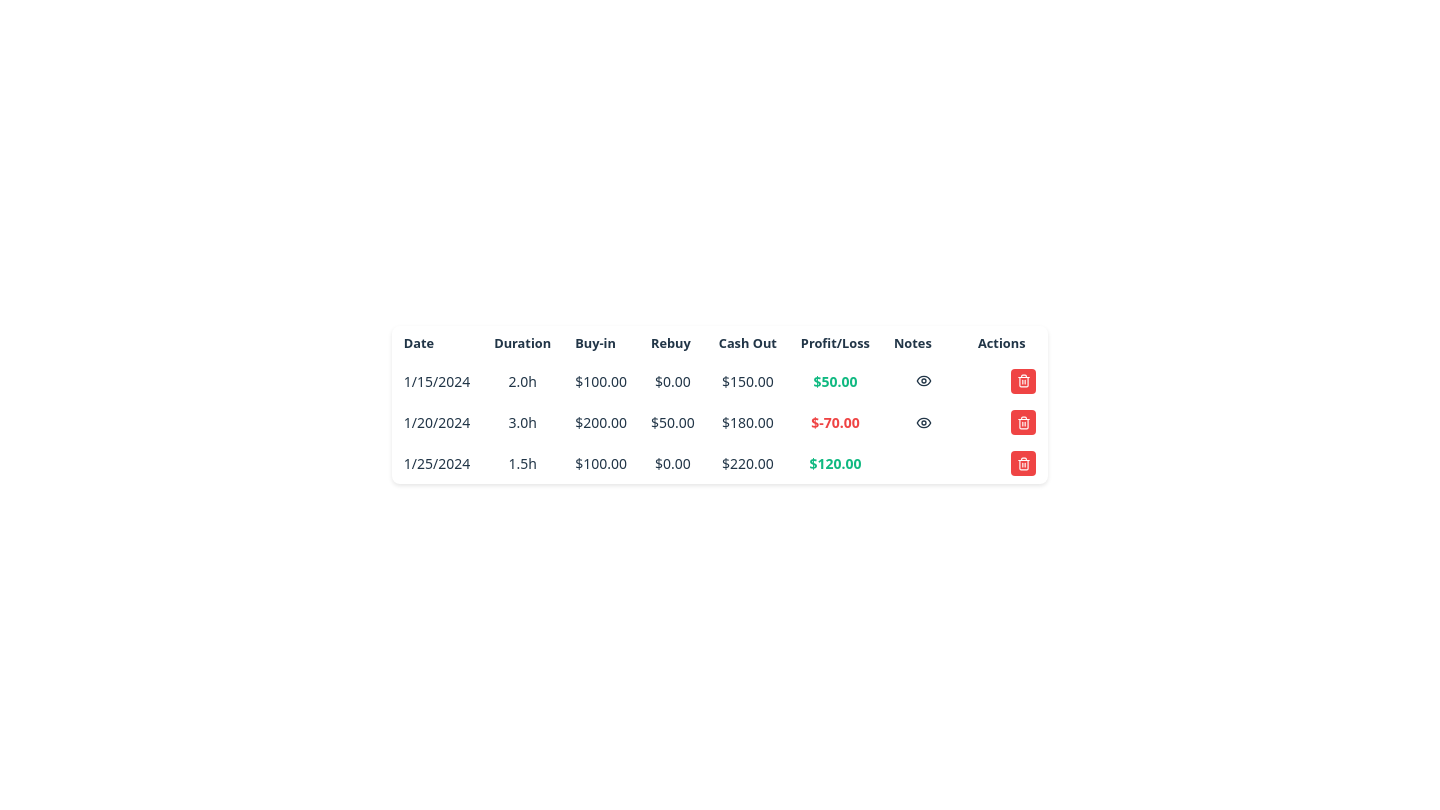
Test case: SessionTable › closes modal when close button is clicked
Open modal
Step 1. Click the button named "view notes" in the row of "1/15/2024" → (924, 381), box x1=912 y1=369 x2=936 y2=393
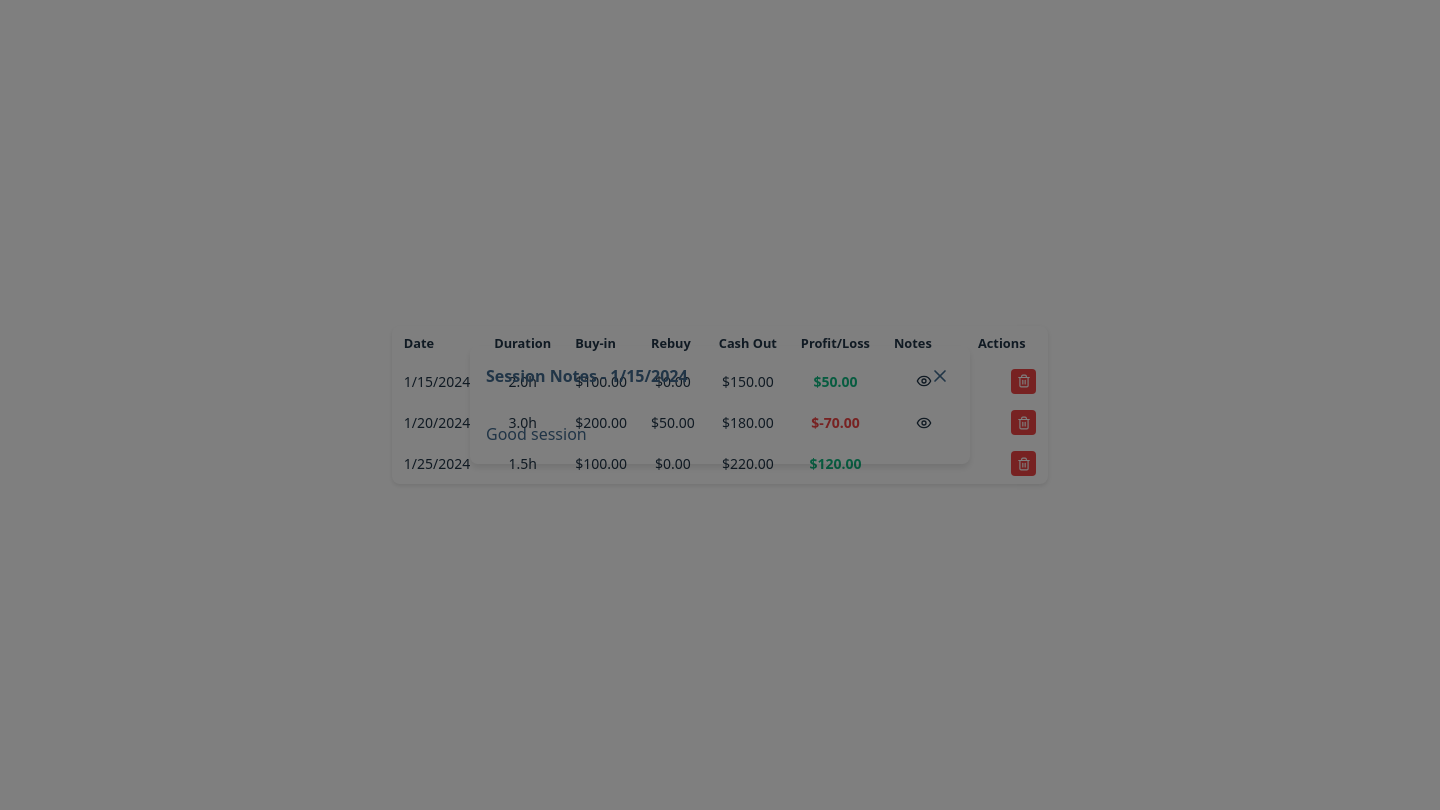
Check: the text "Good session" is shown, box x1=486 y1=423 x2=587 y2=445
Close modal
Step 2. Click the button named "close" → (940, 376), box x1=926 y1=362 x2=954 y2=390
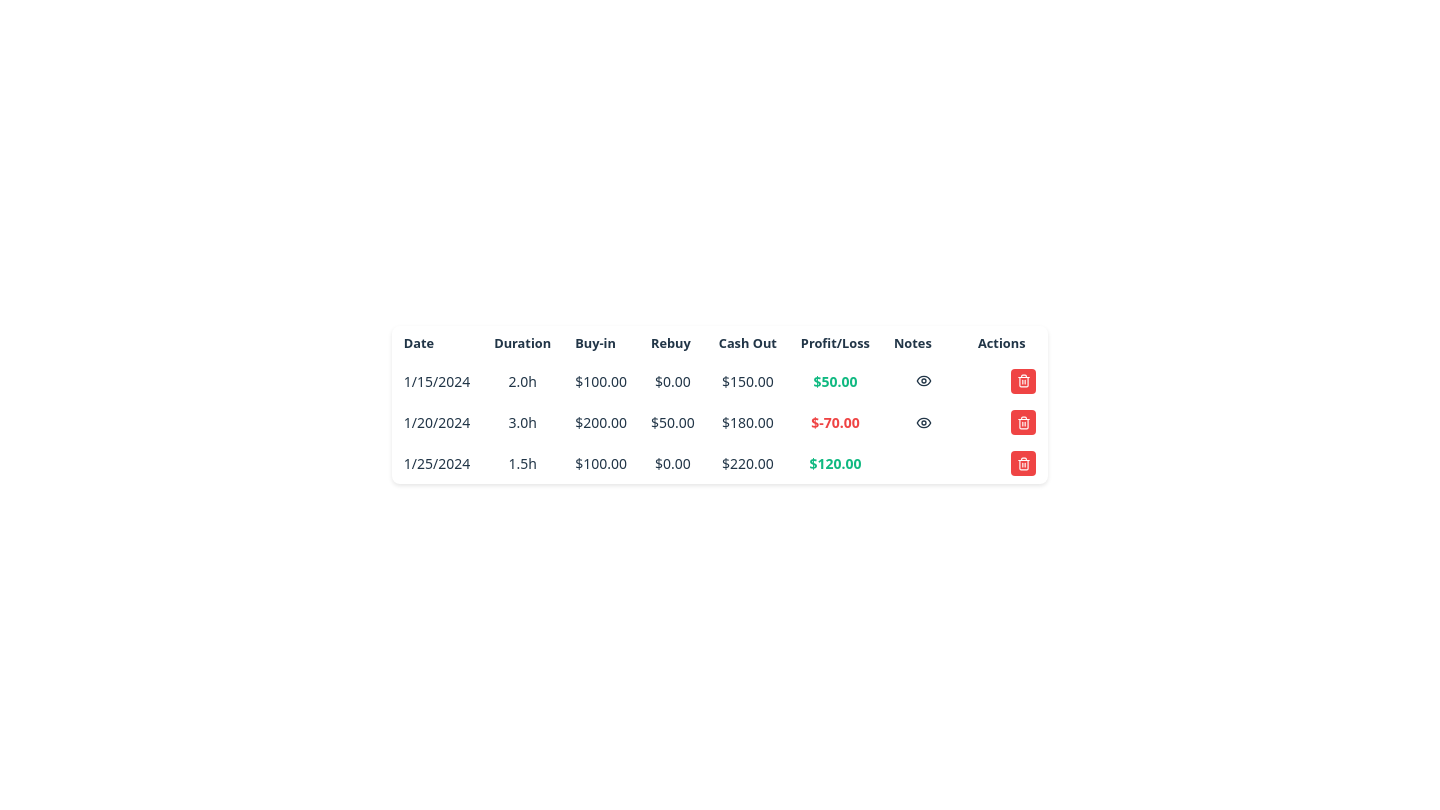
Check: the button "Good session" is gone
